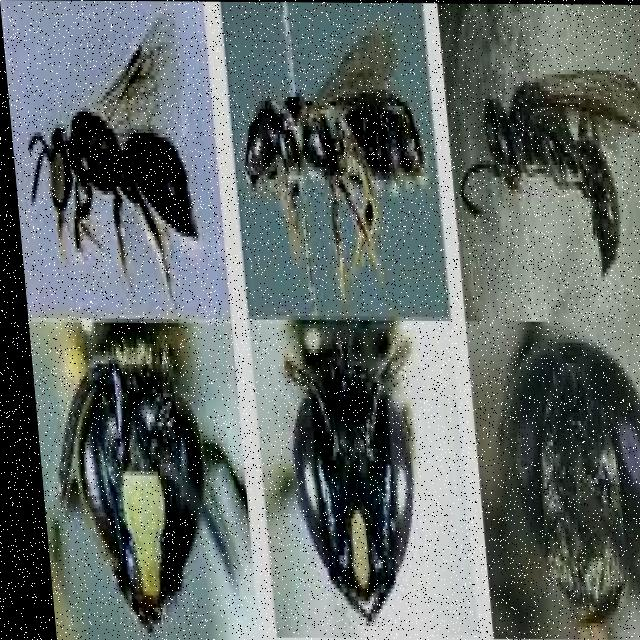Braunsapis: (35, 308, 242, 615), (9, 8, 215, 311), (266, 323, 461, 617), (441, 34, 640, 292), (218, 20, 416, 277), (478, 311, 640, 624)
